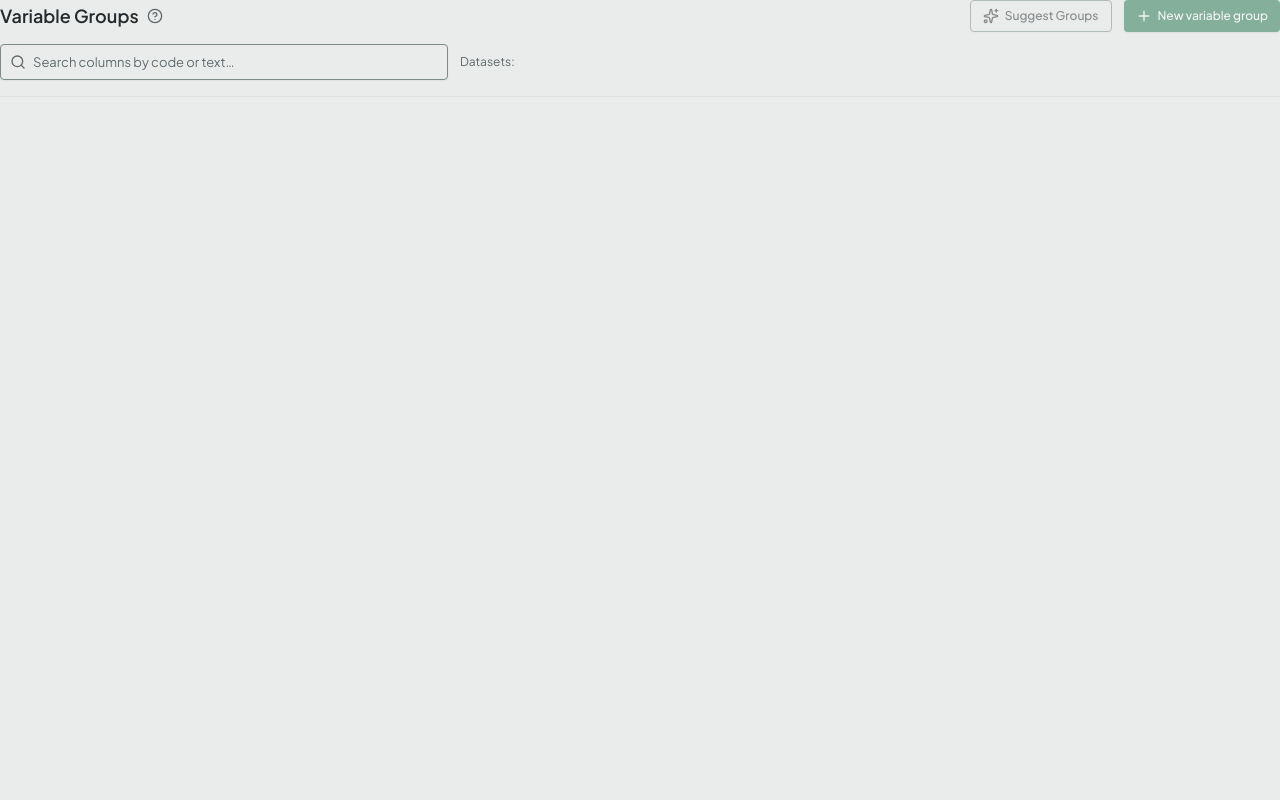
Test case: CrosswalkHeader help popover (Layer 3) › opens a popover with the side-by-side and stacked explanation on click
What coordinates should you click on to do the following:
click the button with test id "crosswalk-help-trigger"
I would click on:
 (155, 16)
Its box is [145,6,165,26].
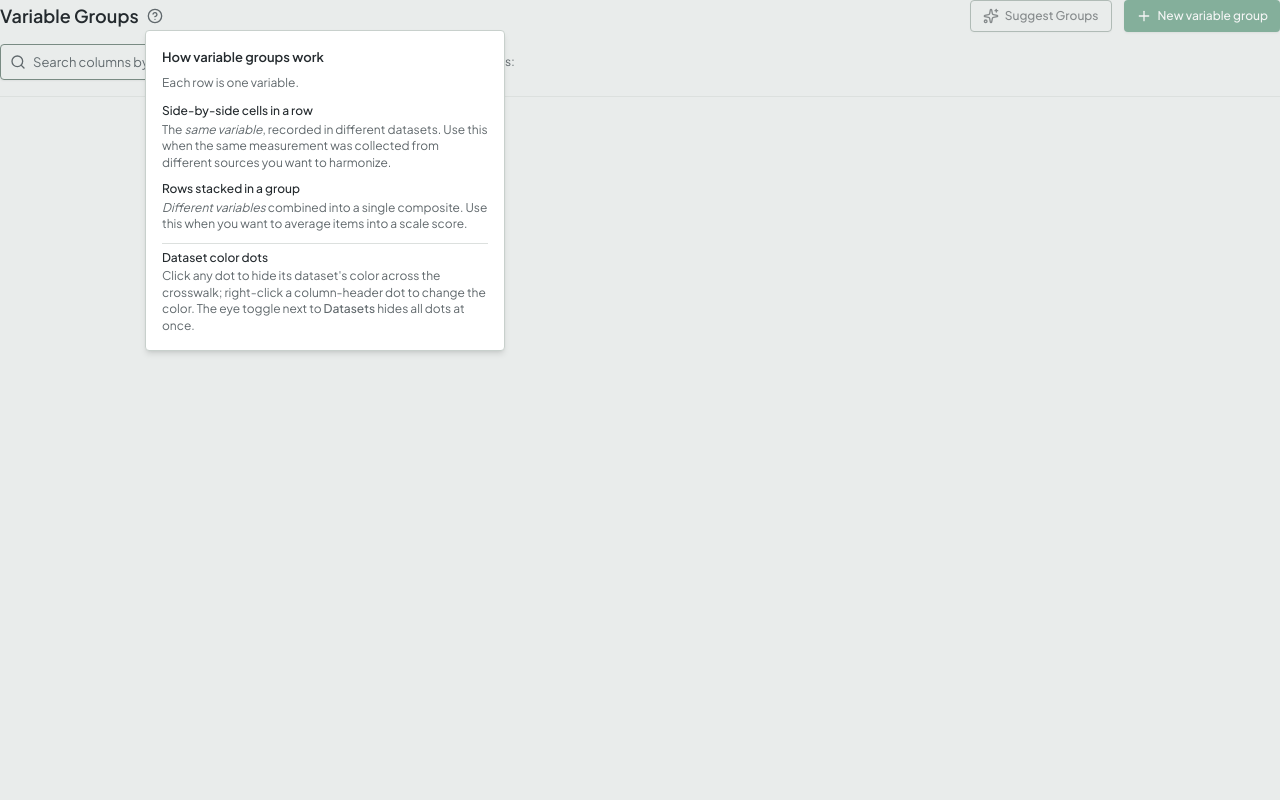
Expected: the heading "How variable groups work" is shown, [162,49,324,65]
Expected: the text "Side-by-side cells in a row" is shown, [162,103,313,118]
Expected: the text "Rows stacked in a group" is shown, [162,181,300,196]
